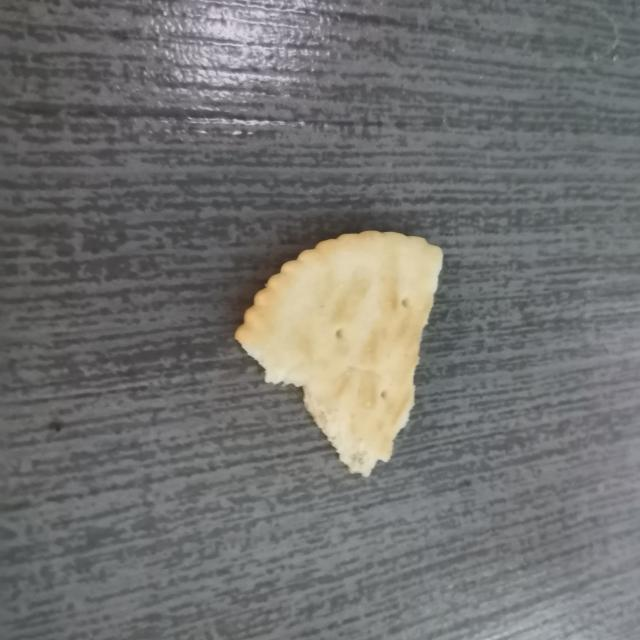Broken: (234, 228, 444, 477)
